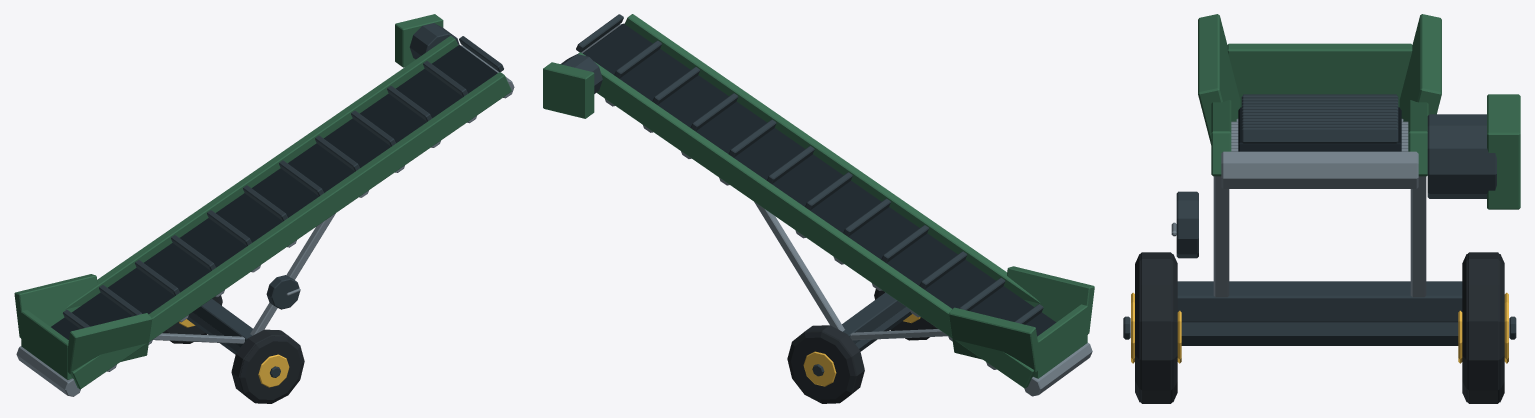
Rendered from b07_mobile_inclined_belt_conveyor.glb.
3 views of the same model, side by side, from view 1: azimuth 30°, elevation 25°; view 2: azimuth 150°, elevation 25°; view 3: azimuth 270°, elevation 25° (orthographic). The views are drawn at different scales.
Visible parts, largest first — view 1: b07_mobile_inclined_belt_conveyor; view 2: b07_mobile_inclined_belt_conveyor; view 3: b07_mobile_inclined_belt_conveyor.
Boxes of the visible parts, x1=… form: b07_mobile_inclined_belt_conveyor: x1=14, y1=14, x2=514, y2=403; b07_mobile_inclined_belt_conveyor: x1=543, y1=14, x2=1094, y2=403; b07_mobile_inclined_belt_conveyor: x1=1123, y1=14, x2=1520, y2=403.
Size of the model in its own units: 4.63 by 2.55 by 1.77.
